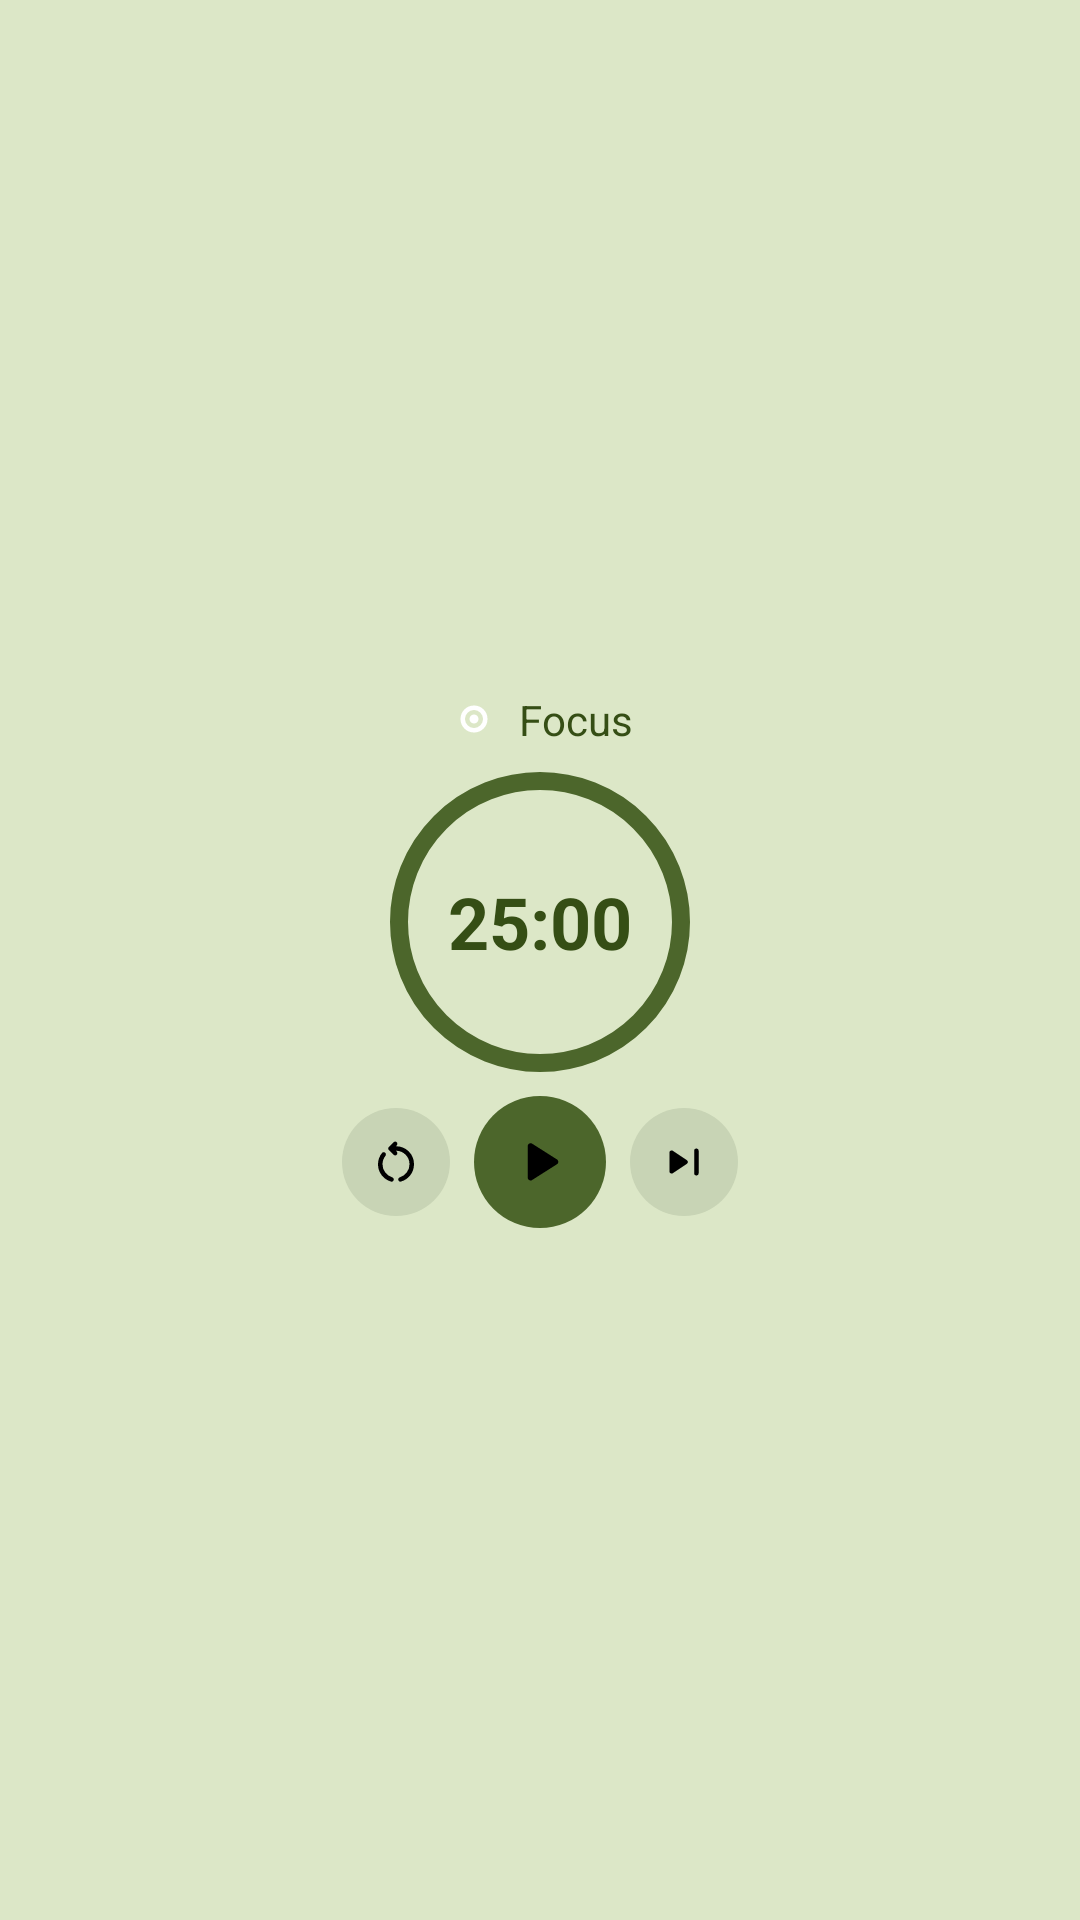

Named icons in this screenshot (1080w x 1920h) and their bounding boxes, (left=x1, top=y1, right=x2, bottom=y2):
play: (left=527, top=1143, right=559, bottom=1181)
restart: (left=378, top=1141, right=414, bottom=1182)
skip next: (left=669, top=1148, right=699, bottom=1176)
timer ring: (left=390, top=772, right=690, bottom=1072)
